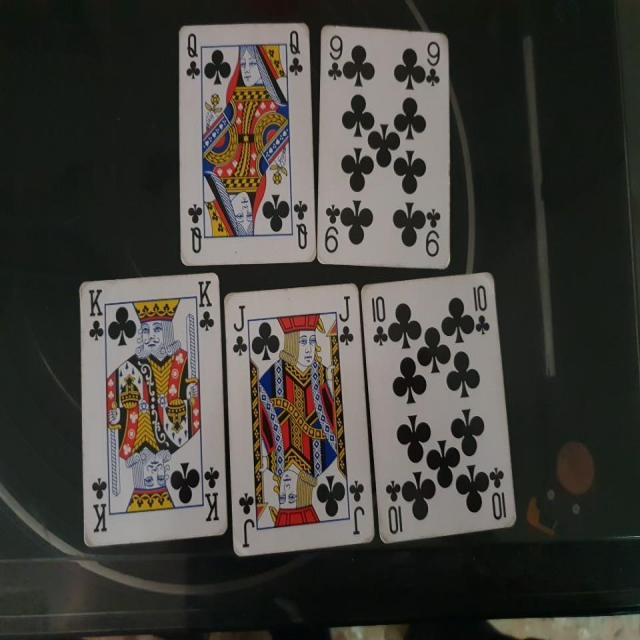10 Trefoils: (360, 266, 518, 540)
9 Trefoils: (316, 22, 452, 270)
J Trefoils: (222, 284, 375, 556)
K Trefoils: (78, 270, 228, 548)
Q Trefoils: (175, 20, 318, 266)
